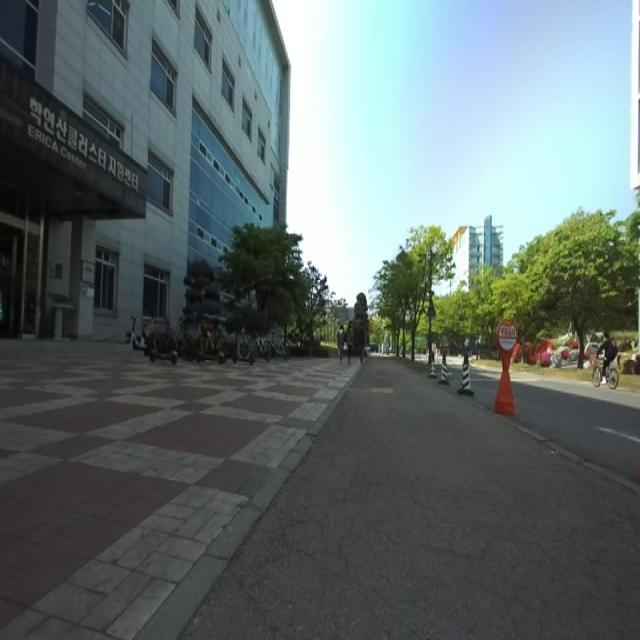sidewalk: (0, 354, 640, 639)
